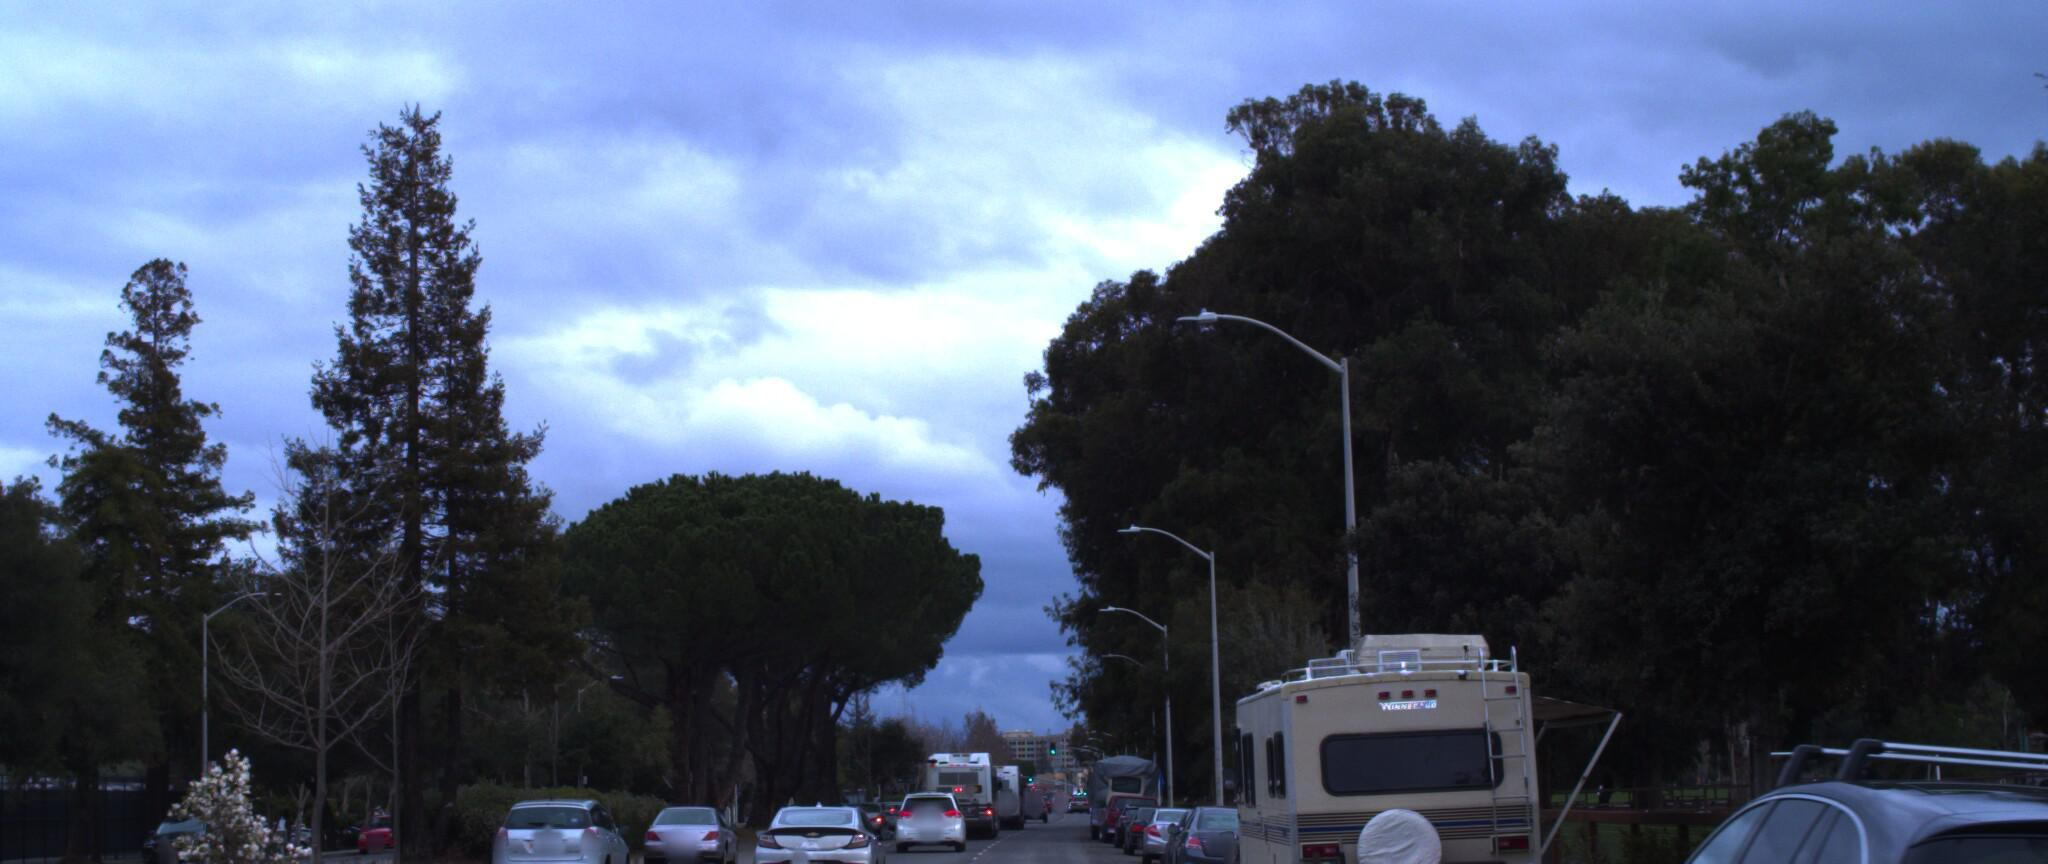car: (1516, 683, 2048, 864), (473, 782, 636, 864), (741, 794, 889, 864), (1165, 787, 1301, 864), (627, 780, 739, 864), (0, 784, 111, 864), (0, 424, 10, 864)
other_vehicle: (1217, 593, 1578, 864)
